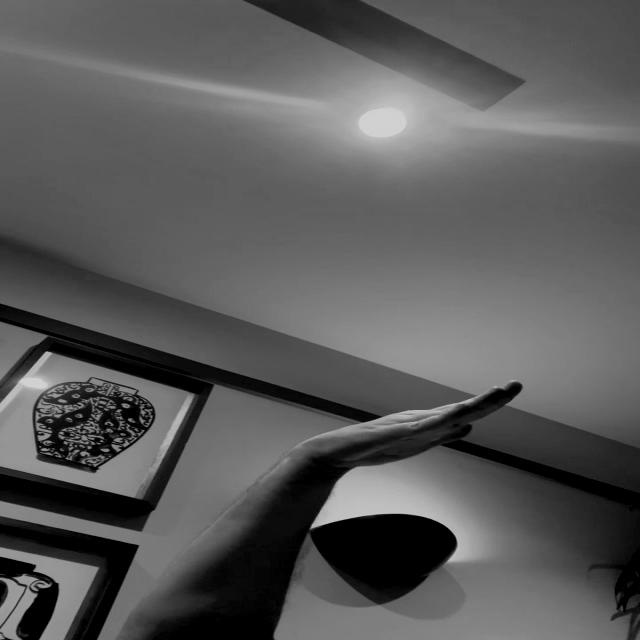Paper: (299, 382, 524, 465)
